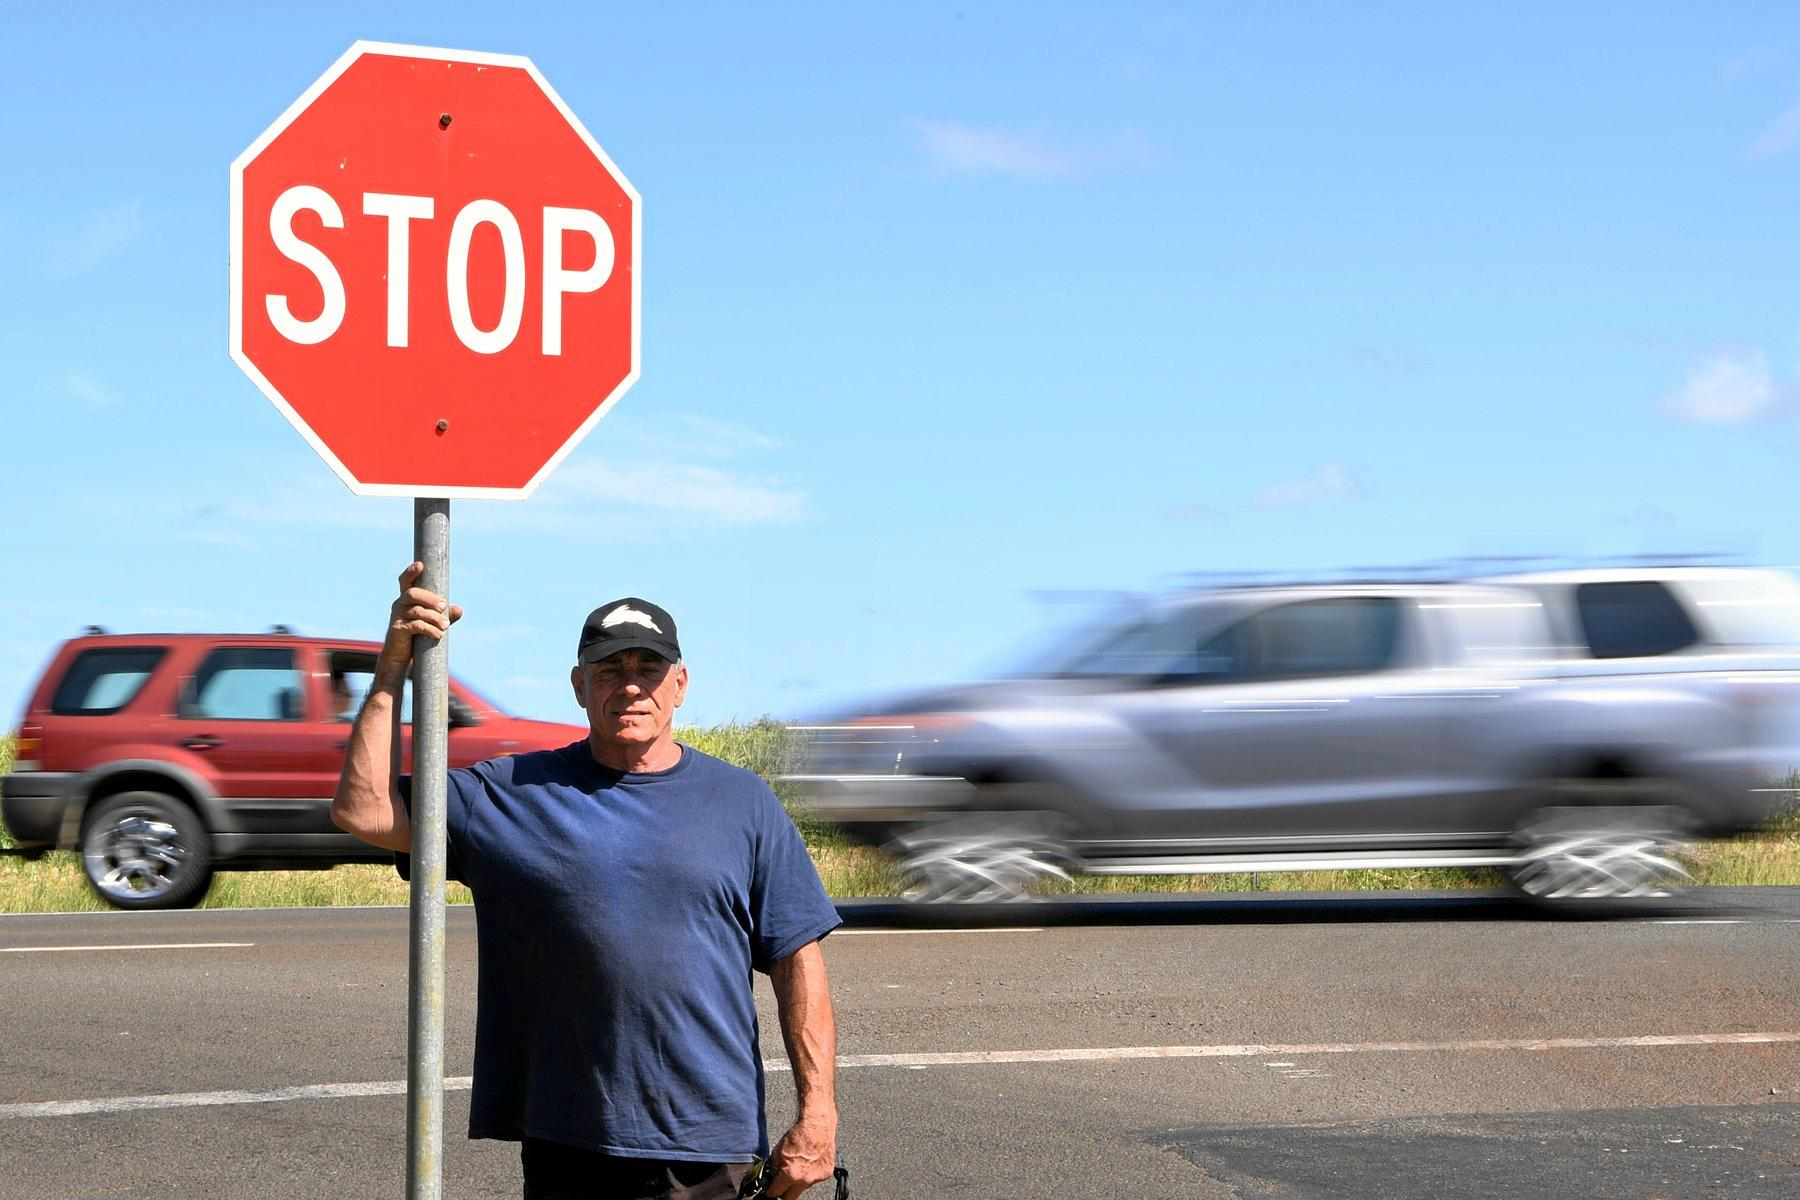stop: (234, 39, 642, 497), (233, 42, 637, 388), (236, 39, 508, 501), (358, 46, 633, 496), (241, 193, 644, 496), (234, 42, 637, 339)
